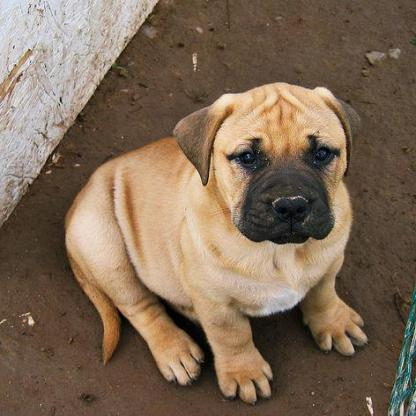bull_mastiff: (61, 80, 366, 403)
